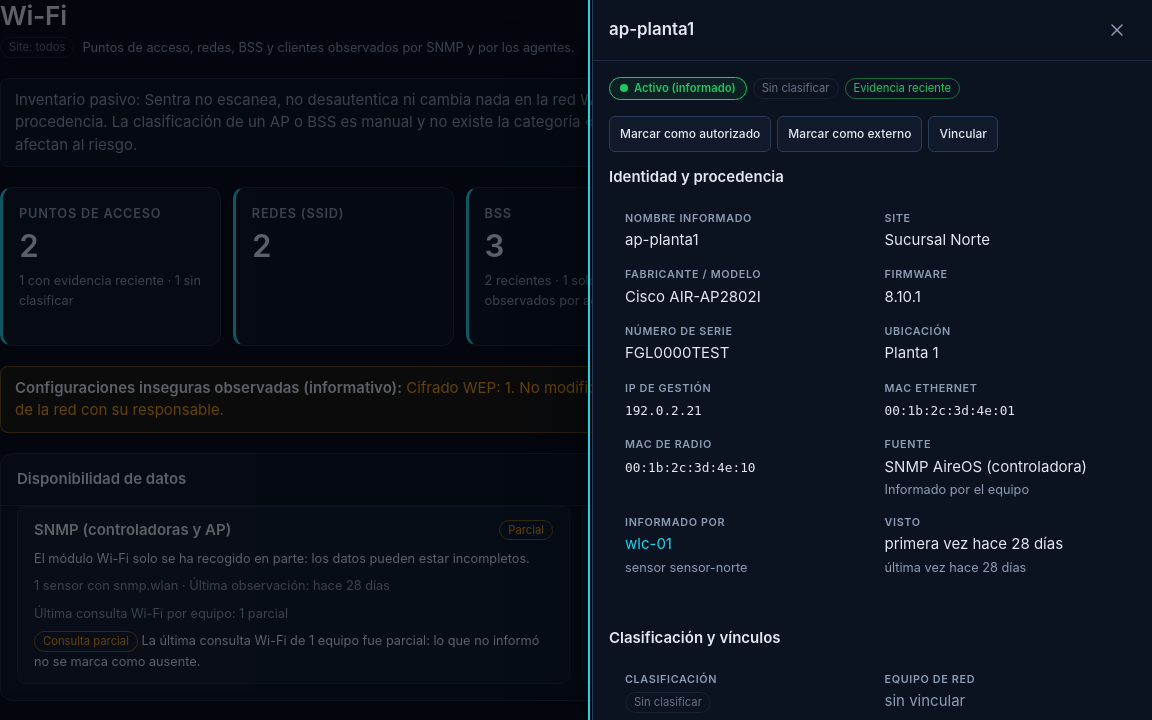
Scenario: WlanPage: detalle de AP y permisos › admin: un conflicto de versión se explica y recarga el AP
This screenshot has width=1152, height=720.
Click the button "Marcar como externo" at (850, 134), box 777,116 -> 922,152
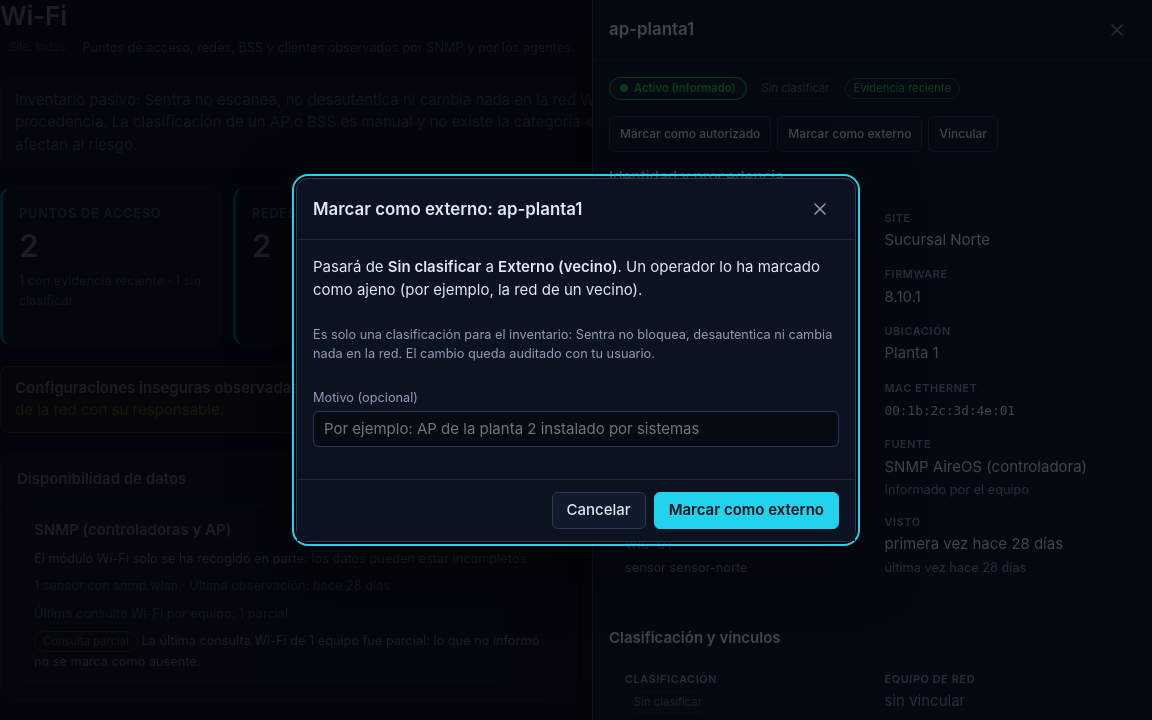
Click the button "Marcar como externo" at (746, 510), box 654,492 -> 839,529
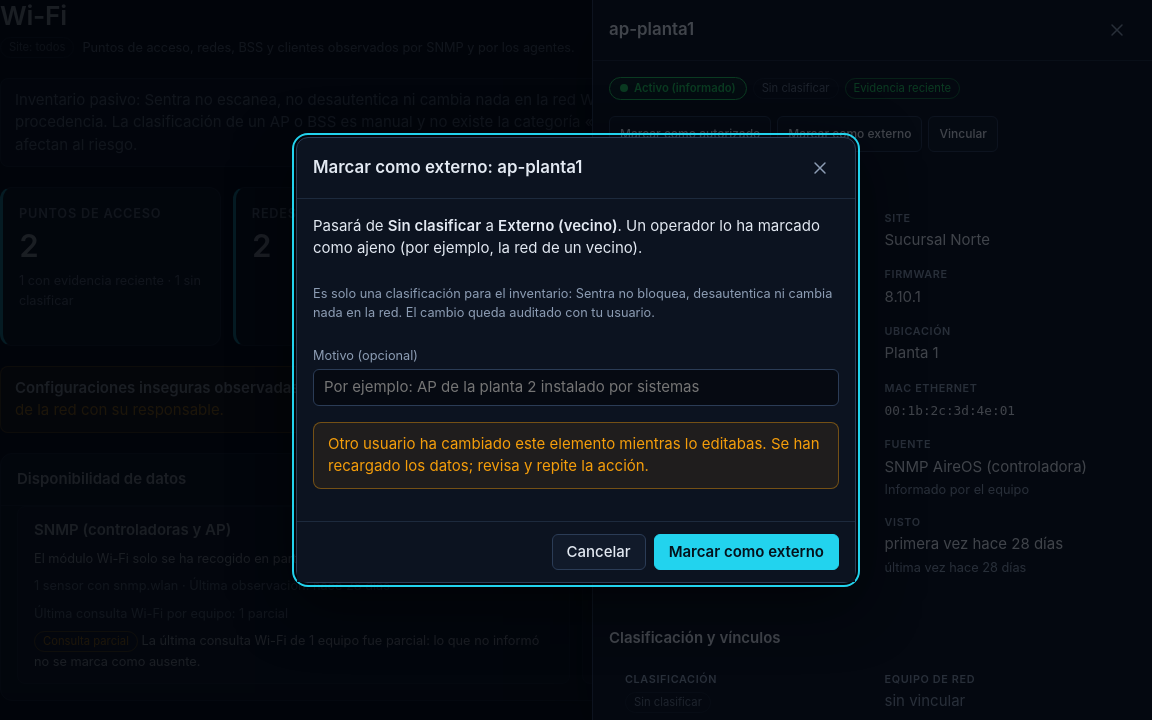
Check: the message shows "Otro usuario ha cambiado este elemento", box 328,434 -> 820,475
